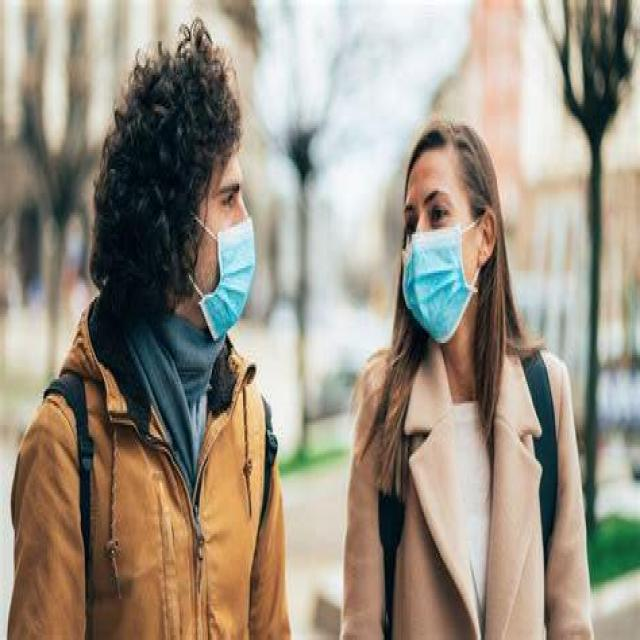face: (401, 147, 498, 348), (173, 101, 255, 336)
